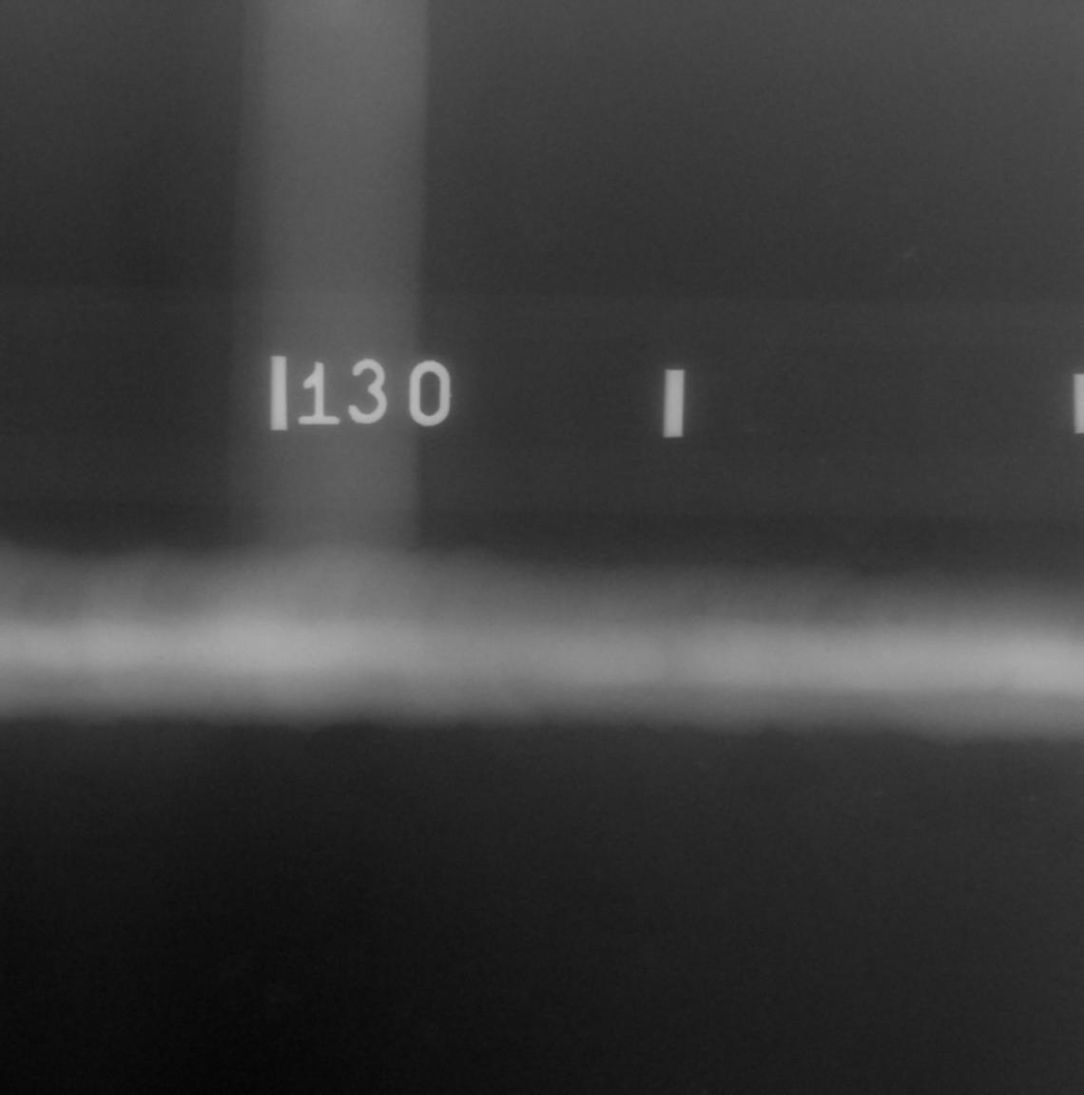Pore/Porosity: (825, 648, 831, 653)
